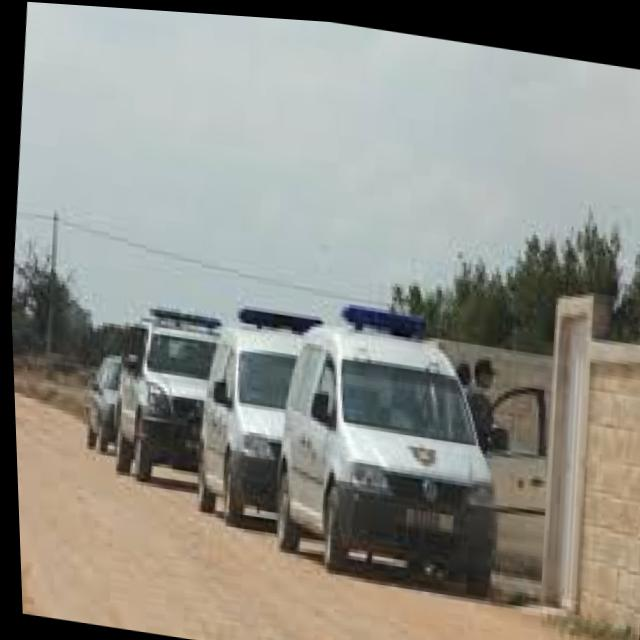gendarme car: (261, 280, 517, 599)
